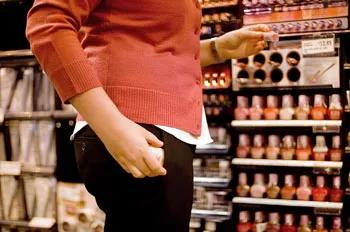shoplifting: (23, 17, 216, 217)
